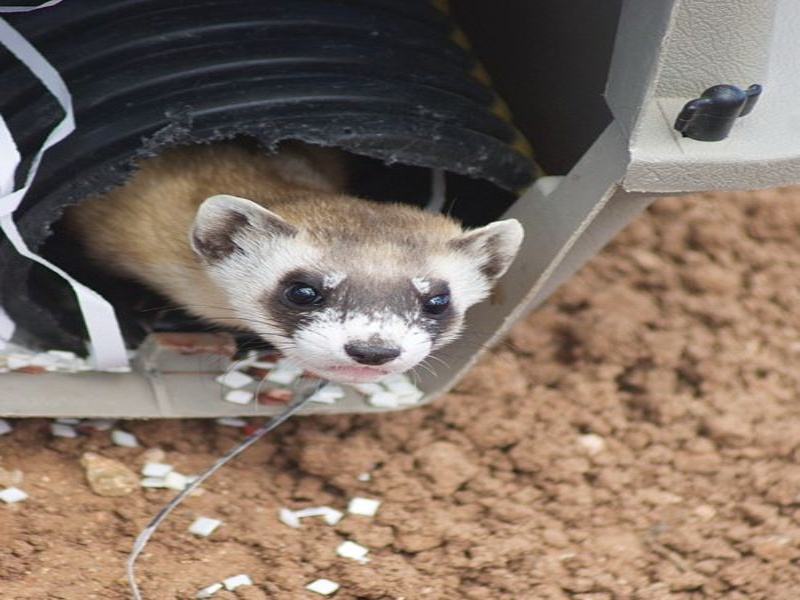minkish: (58, 109, 542, 413)
